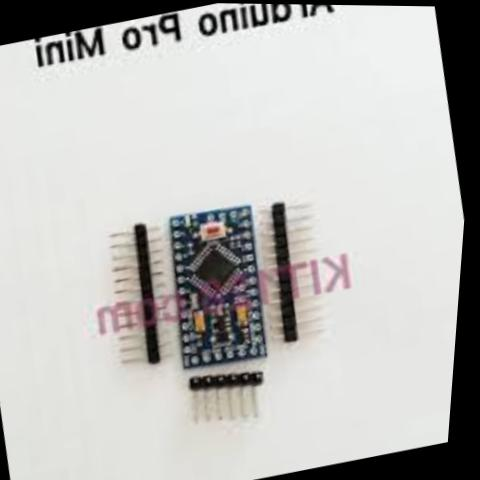Arduino-Pro-Mini: (137, 187, 304, 377)
